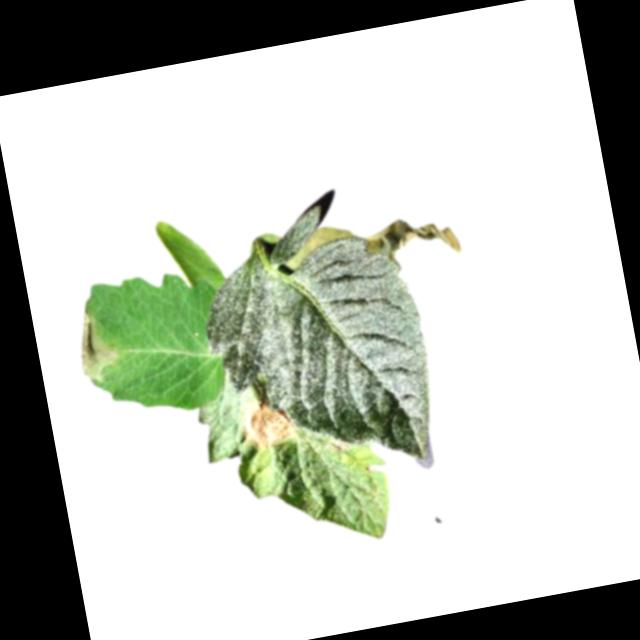Late_blight: (364, 209, 463, 272), (70, 300, 124, 385), (236, 396, 293, 451), (328, 438, 348, 455)
healthy: (193, 229, 444, 492)
